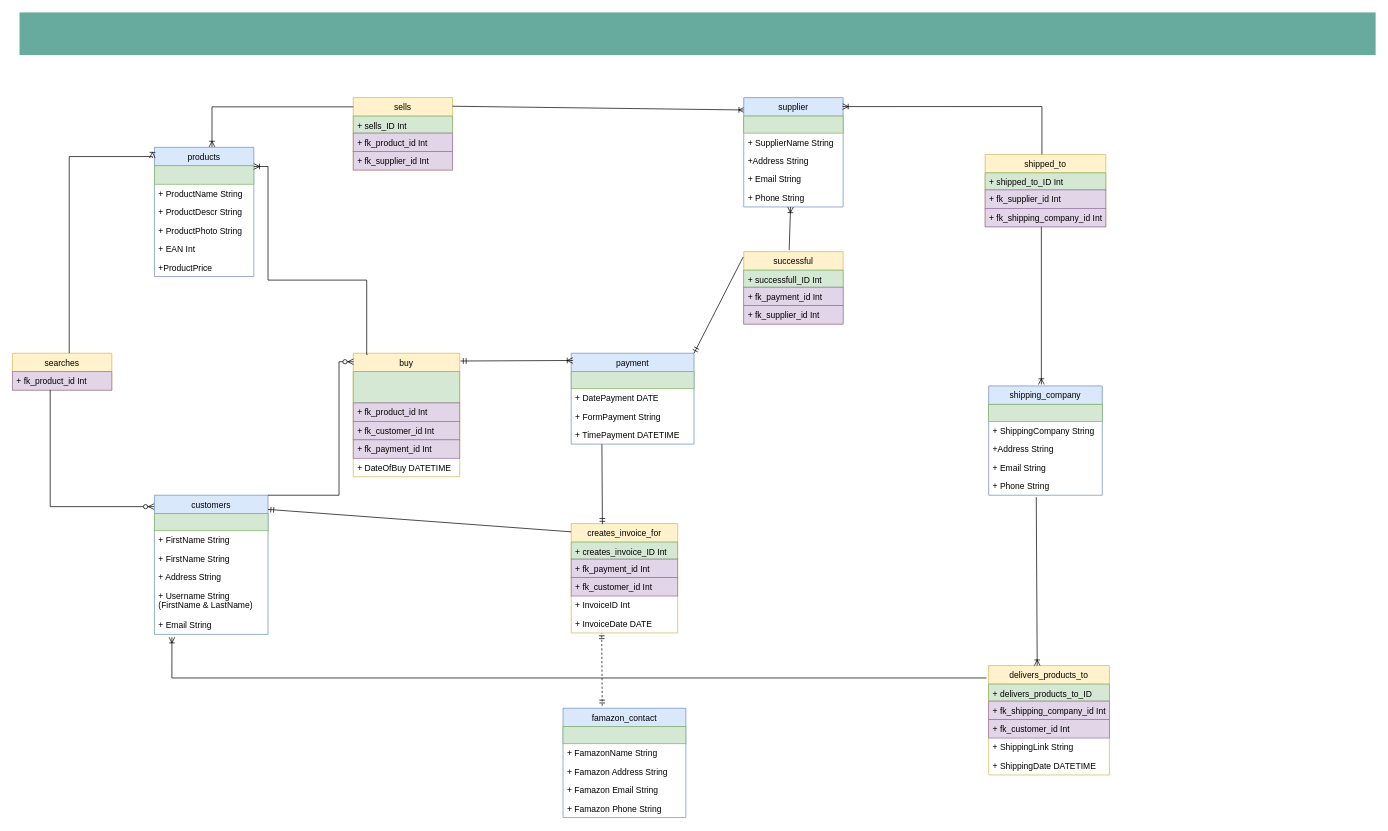
Image size: 1388x831. Some labels were removed from this diagram. The shapes that lost their labels are listed below. From the top down, each one's centre as x and y in pixels, then its label:
At [697,33]: "Step 3: Unified Modeling Language".
At [793,124]: "+ SupplierID Int".
At [204,174]: "+ ProductId Int".
At [406,387]: "+ buy_ID String (ProductId & DateOfBuy)".
At [632,380]: "+ PaymentID Int".
At [1045,412]: "+ ShippingCompanyID Int".
At [211,522]: "+ CustomerId Int".
At [624,735]: "+ FamazonContactID Int".
